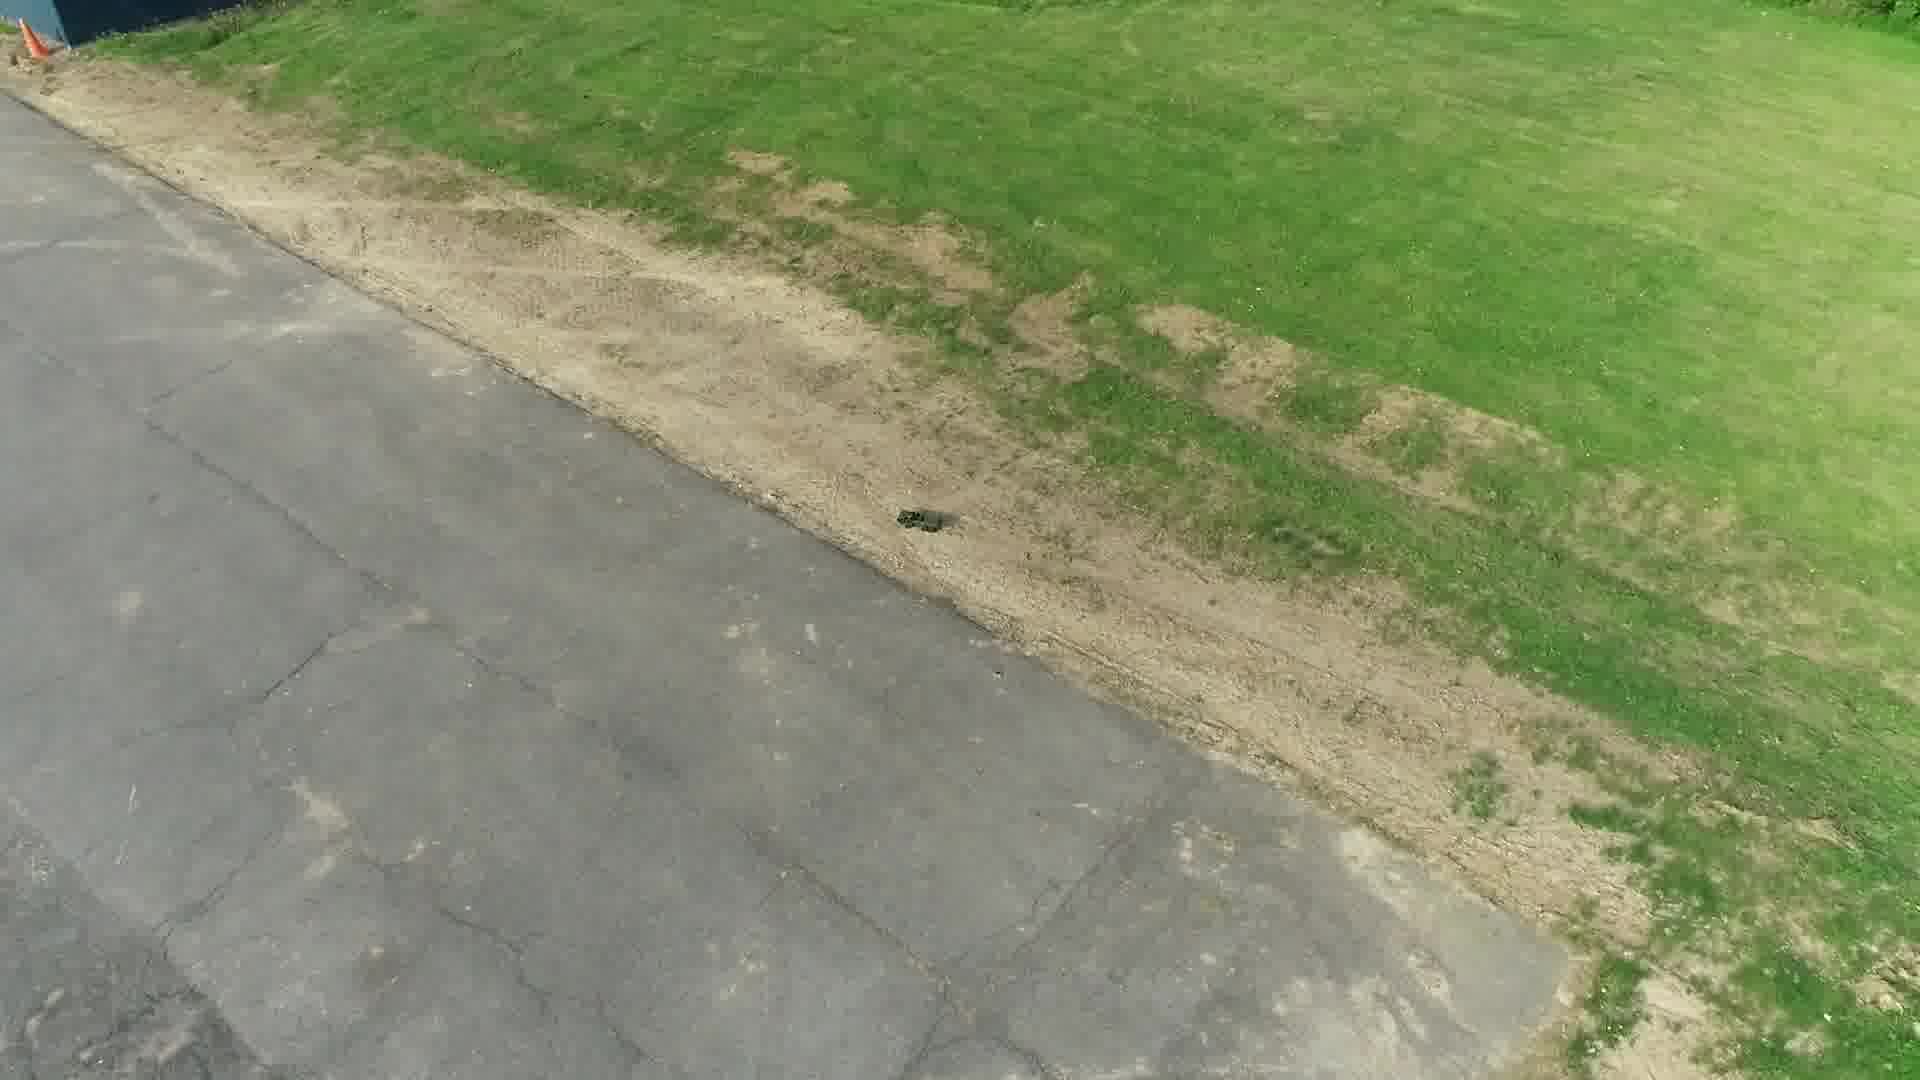transporter9: (895, 506, 945, 535)
